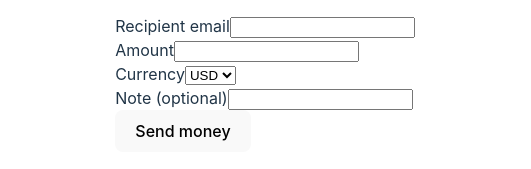
<SendMoneyForm /> › blocks submit and surfaces all errors when the form is empty
The width and height of the screenshot is (531, 169).
Click the button "Send money": (183, 131) [115,110,251,152]
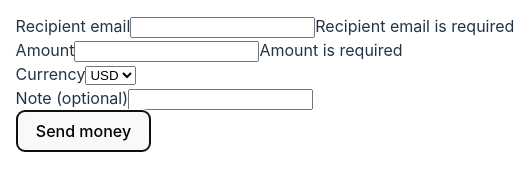
Expected: the text "Recipient email is required" is shown, [315,16,514,36]
Expected: the text "Amount is required" is shown, [259,40,403,60]
